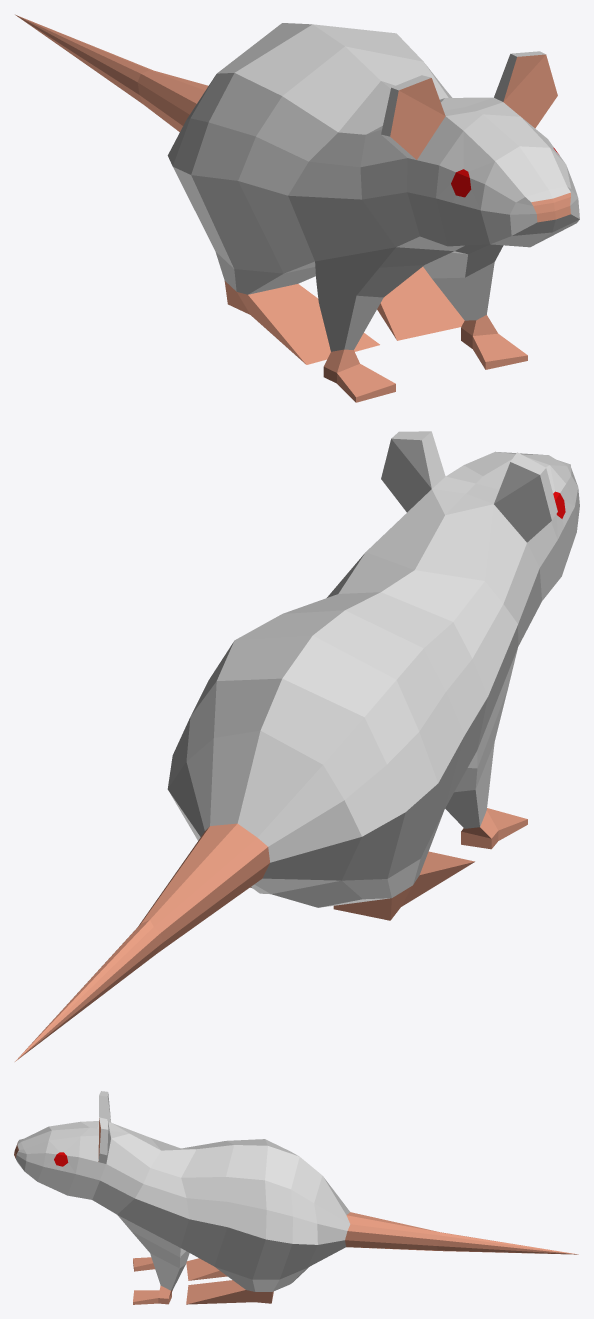
Rendered from rat.fbx.
The picture shows the model from 3 angles, top to bottom: view 1: azimuth 30°, elevation 25°; view 2: azimuth 150°, elevation 25°; view 3: azimuth 270°, elevation 25°; orthographic projection. The views are drawn at different scales.
Visible parts, largest first — view 1: Cube; view 2: Cube; view 3: Cube.
Boxes of the visible parts, x1,y1,x2,y2 form: Cube: (15,14,579,402); Cube: (15,431,579,1061); Cube: (14,1091,578,1304).
Size of the model in its own units: 132 by 173 by 502.
